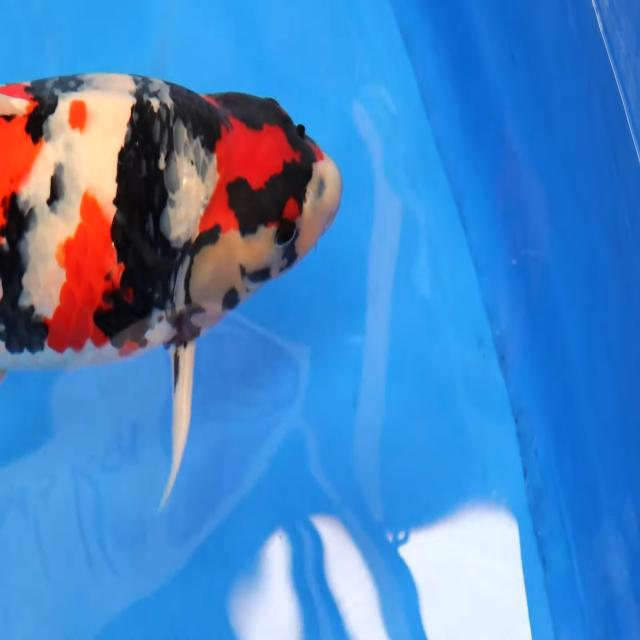Showa: (1, 69, 343, 509)
